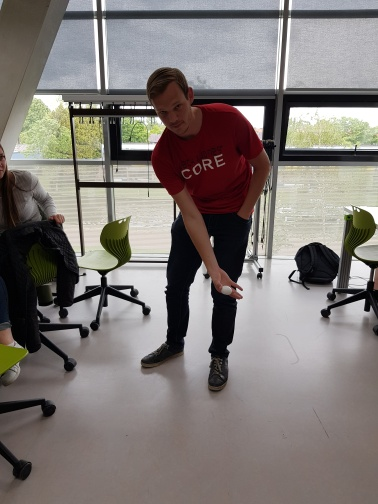egg: (220, 284, 235, 296)
